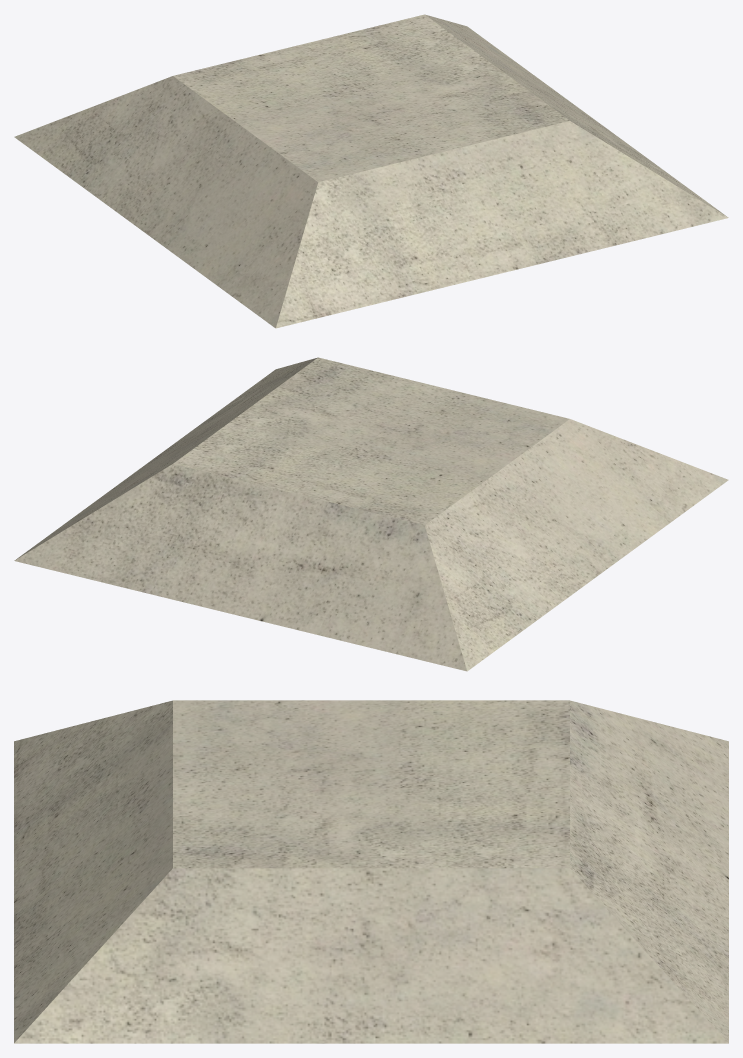
File: SuspCableHolder.fbx
3 renders of one model, top to bottom at view 1: azimuth 30°, elevation 25°; view 2: azimuth 150°, elevation 25°; view 3: azimuth 270°, elevation 25°, orthographic. The views are drawn at different scales.
Visible parts, largest first — view 1: SuspCableHolder; view 2: SuspCableHolder; view 3: SuspCableHolder.
Part boxes in pixels (box(x1,y1,x2,y2)): SuspCableHolder: box(14, 14, 728, 328); SuspCableHolder: box(14, 357, 728, 671); SuspCableHolder: box(14, 700, 728, 1043).
Size of the model in its own units: 0.9 by 0.15 by 0.9.
